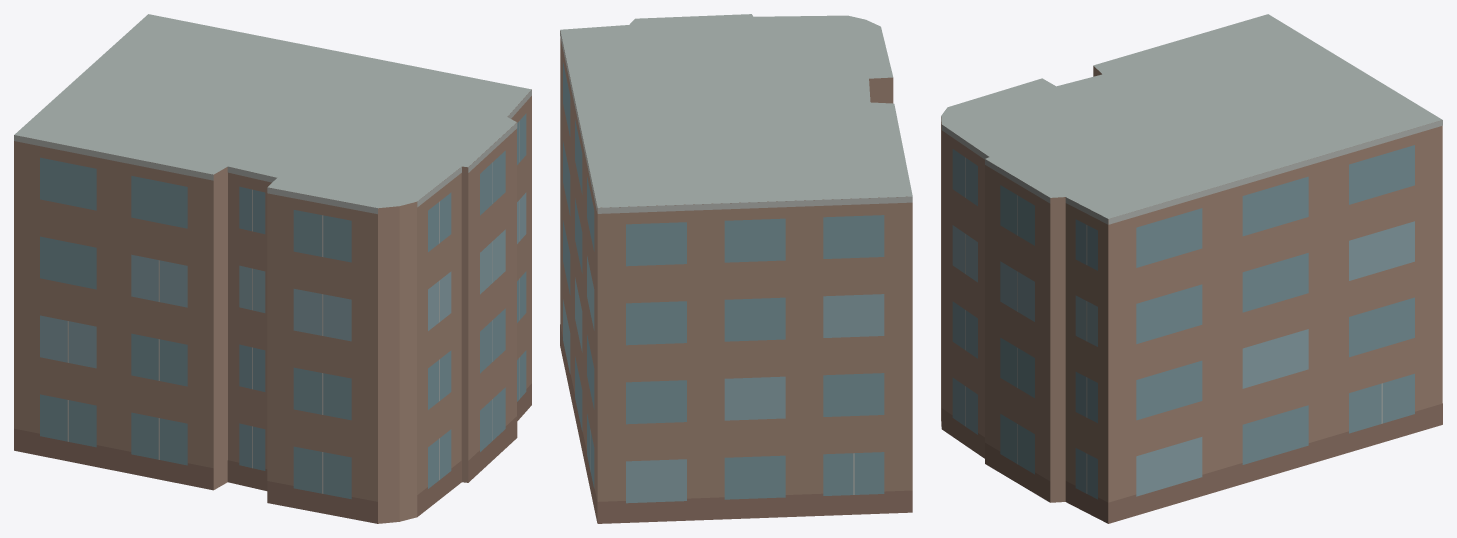
Rendered from survey-upis-32804263.glb.
The picture shows the model from 3 angles, left to right: view 1: azimuth 30°, elevation 25°; view 2: azimuth 150°, elevation 25°; view 3: azimuth 270°, elevation 25°; orthographic projection. The views are drawn at different scales.
Visible parts, largest first — view 1: survey-upis-32804263.tmp; view 2: survey-upis-32804263.tmp; view 3: survey-upis-32804263.tmp.
Boxes of the visible parts, x1=… form: survey-upis-32804263.tmp: x1=14, y1=14, x2=531, y2=523; survey-upis-32804263.tmp: x1=560, y1=14, x2=912, y2=523; survey-upis-32804263.tmp: x1=941, y1=14, x2=1442, y2=523.
Size of the model in its own units: 18.32 by 12.7 by 18.94.
